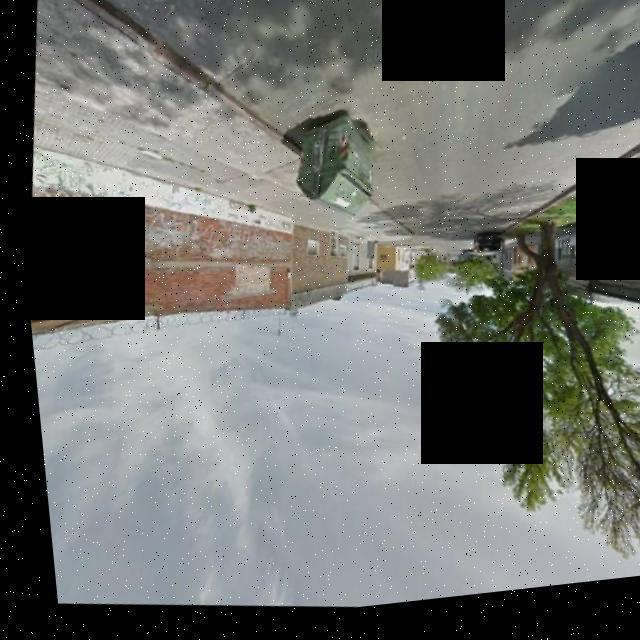bin: (267, 103, 387, 242)
